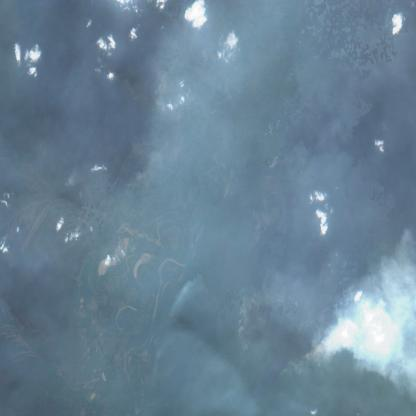fire: (226, 73, 347, 382), (59, 90, 188, 202)
